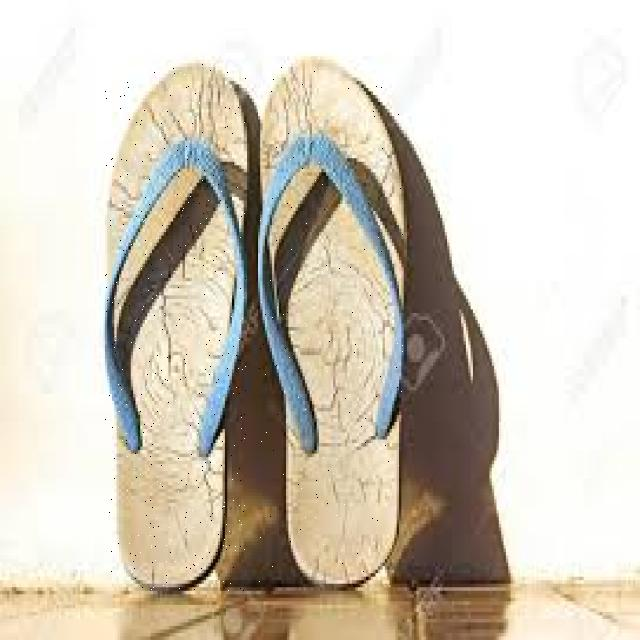other: (259, 60, 406, 585), (106, 63, 246, 591)
